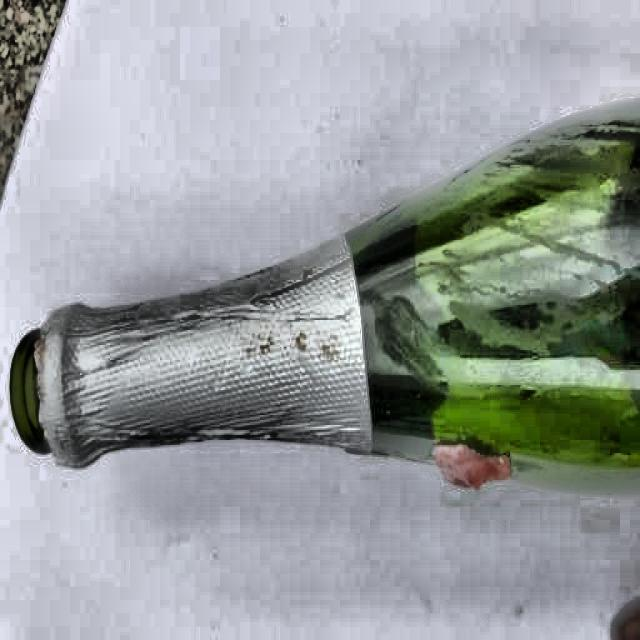glass: (11, 90, 640, 492)
